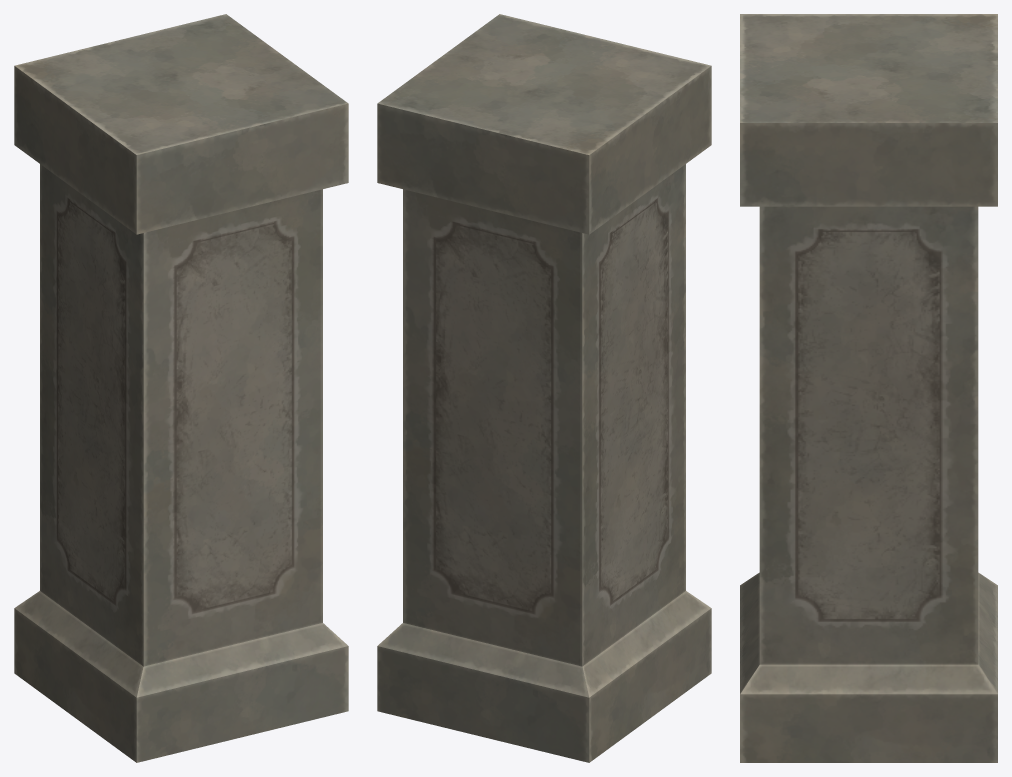
The model's file is balustrade_pillar_01.fbx.
The picture shows the model from 3 angles, left to right: view 1: azimuth 30°, elevation 25°; view 2: azimuth 150°, elevation 25°; view 3: azimuth 270°, elevation 25°; orthographic projection. The views are drawn at different scales.
Parts seen in each view (by area): view 1: balustrade_pillar_01; view 2: balustrade_pillar_01; view 3: balustrade_pillar_01.
Boxes of the visible parts, x1,y1,x2,y2 form: balustrade_pillar_01: [14, 14, 348, 762]; balustrade_pillar_01: [377, 14, 711, 762]; balustrade_pillar_01: [740, 14, 997, 762].
Size of the model in its own units: 36.95 by 101 by 36.95.
